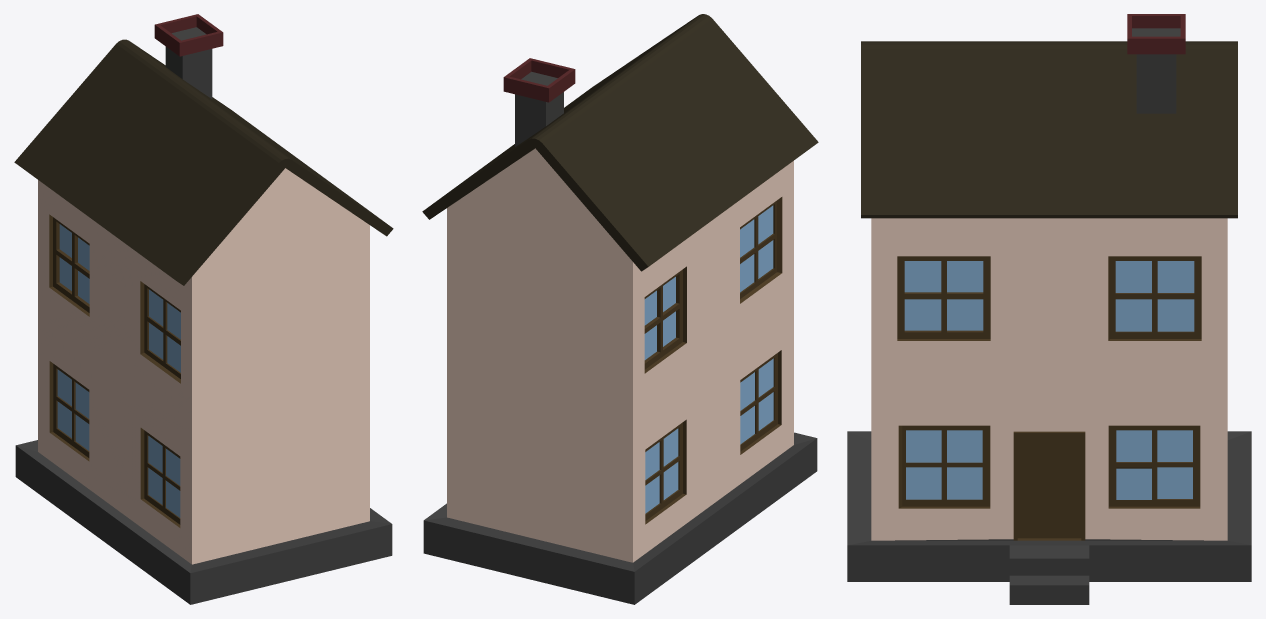
The model's file is House2.fbx.
3 views of the same model, side by side, from view 1: azimuth 30°, elevation 25°; view 2: azimuth 150°, elevation 25°; view 3: azimuth 270°, elevation 25° (orthographic). The views are drawn at different scales.
Visible parts, largest first — view 1: House; view 2: House; view 3: House.
Boxes of the visible parts, left/top/right/bottom form: House: left=14, top=14, right=393, bottom=604; House: left=422, top=14, right=818, bottom=604; House: left=847, top=14, right=1251, bottom=604.
Size of the model in its own units: 562 by 960 by 681.
